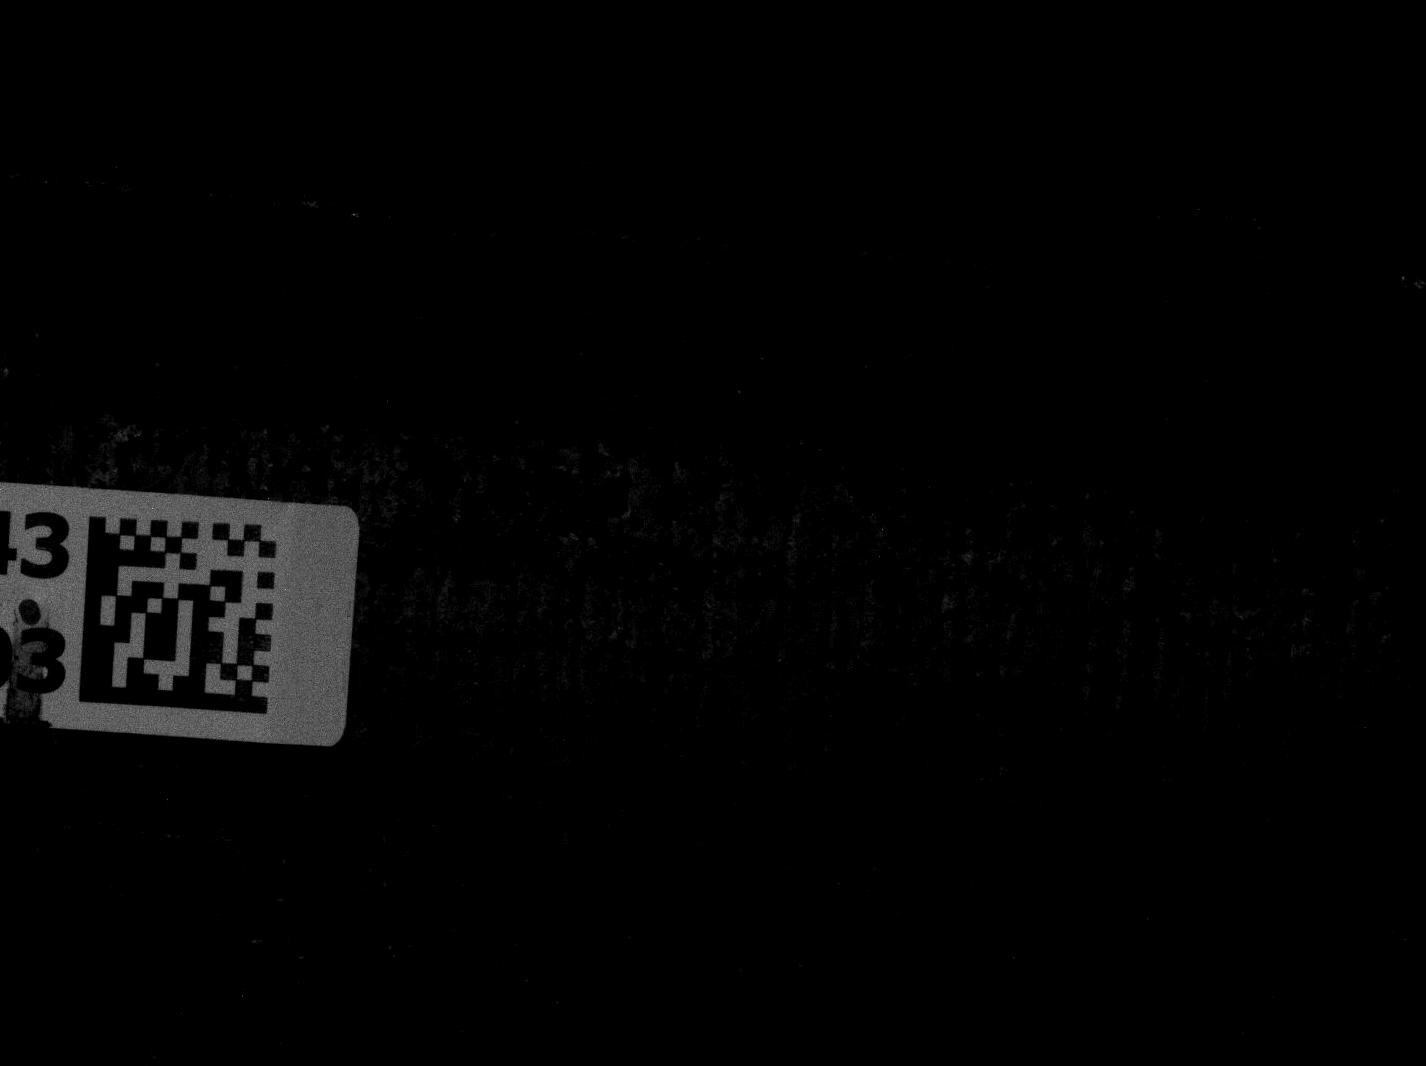data matrix: (71, 504, 294, 721)
